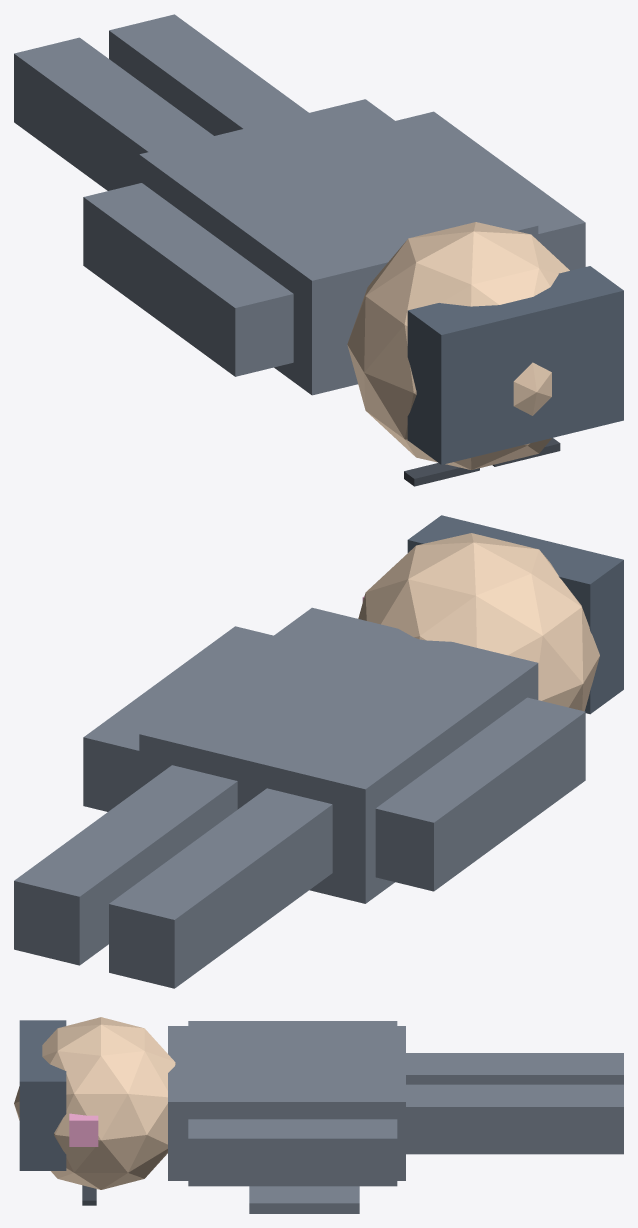
The model's file is cfo_variant_1.glb.
3 views of the same model, one above another, from view 1: azimuth 30°, elevation 25°; view 2: azimuth 150°, elevation 25°; view 3: azimuth 270°, elevation 25° (orthographic). The views are drawn at different scales.
Parts seen in each view (by area): view 1: torso_2, hair_6, arm_l_3, head_5, leg_l_0, leg_r_1, arm_r_4, glasses_l_10; view 2: torso_2, leg_l_0, arm_l_3, head_5, leg_r_1, arm_r_4, hair_6; view 3: torso_2, head_5, leg_r_1, arm_r_4, leg_l_0, hair_6, tablet_9, arm_l_3, earring_or_badge_12.
Part boxes in pixels (<box>): torso_2: <box>139,99,538,395</box>; hair_6: <box>407,266,623,464</box>; arm_l_3: <box>83,183,293,376</box>; head_5: <box>347,222,569,469</box>; leg_l_0: <box>14,37,213,190</box>; leg_r_1: <box>109,14,308,135</box>; arm_r_4: <box>396,111,585,270</box>; glasses_l_10: <box>404,463,479,486</box>; torso_2: <box>139,607,538,903</box>; leg_l_0: <box>109,788,332,988</box>; arm_l_3: <box>375,697,585,891</box>; head_5: <box>358,533,599,711</box>; leg_r_1: <box>14,765,237,965</box>; arm_r_4: <box>83,626,273,811</box>; hair_6: <box>407,515,623,714</box>; torso_2: <box>168,1026,405,1180</box>; head_5: <box>14,1017,175,1189</box>; leg_r_1: <box>406,1084,623,1154</box>; arm_r_4: <box>188,1119,397,1186</box>; leg_l_0: <box>406,1053,623,1084</box>; hair_6: <box>19,1020,66,1170</box>; tablet_9: <box>249,1186,359,1213</box>; arm_l_3: <box>188,1021,397,1025</box>; earring_or_badge_12: <box>69,1113,98,1146</box>.
Bounding box in the file's own units: 0.96 × 0.6 × 2.1.
